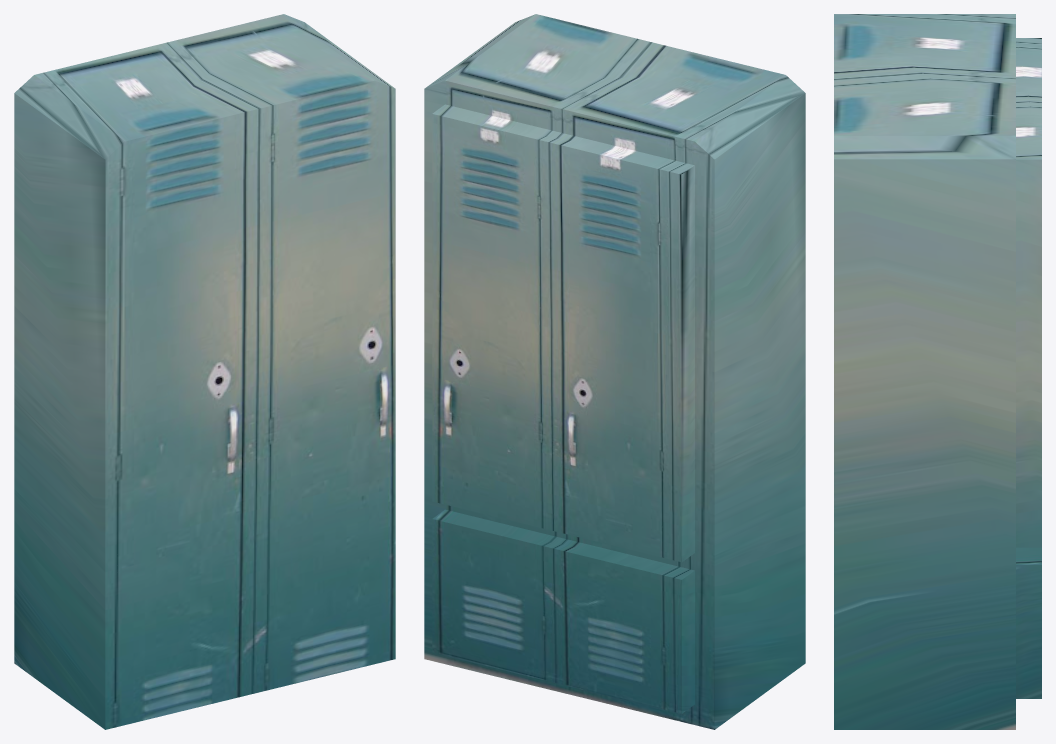
The model's file is locker.glb.
3 renders of one model, left to right at view 1: azimuth 30°, elevation 25°; view 2: azimuth 150°, elevation 25°; view 3: azimuth 270°, elevation 25°, orthographic.
Parts seen in each view (by area): view 1: Locker; view 2: Locker; view 3: Locker.
Part boxes in pixels (x1,y1,x2,y2): Locker: (14,14,395,729); Locker: (424,14,805,729); Locker: (834,14,1041,729).
Size of the model in its own units: 1.04 by 2 by 0.6452.
Materials: 1 (1 with a texture image).
